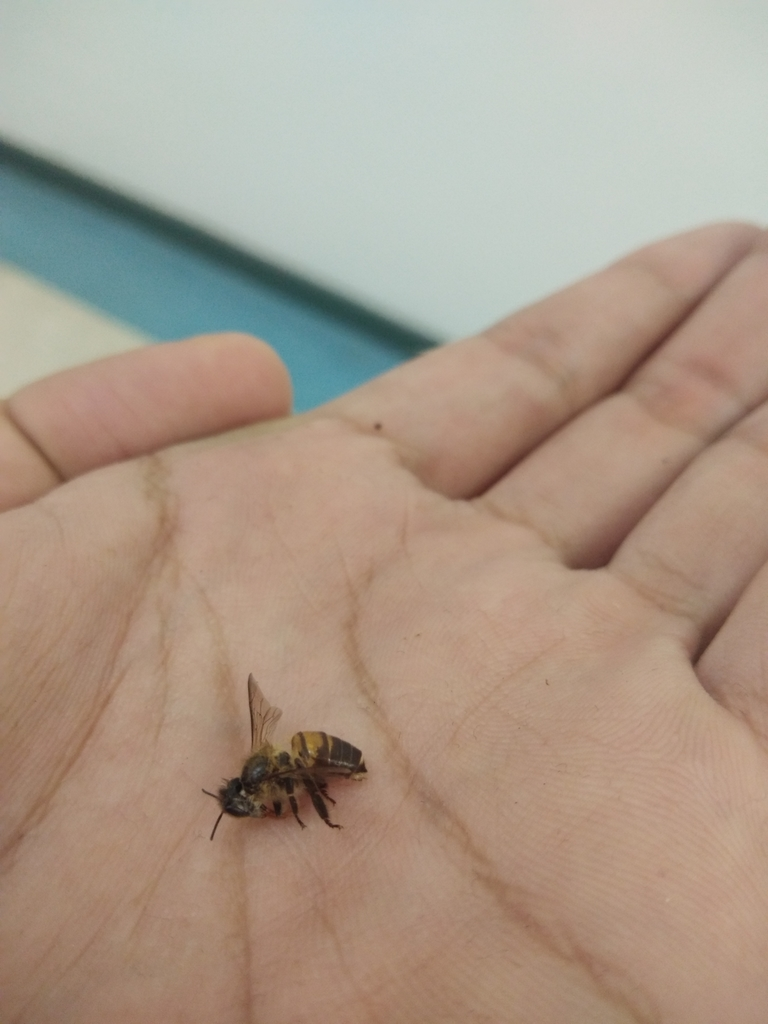honeybee: (201, 671, 369, 840)
